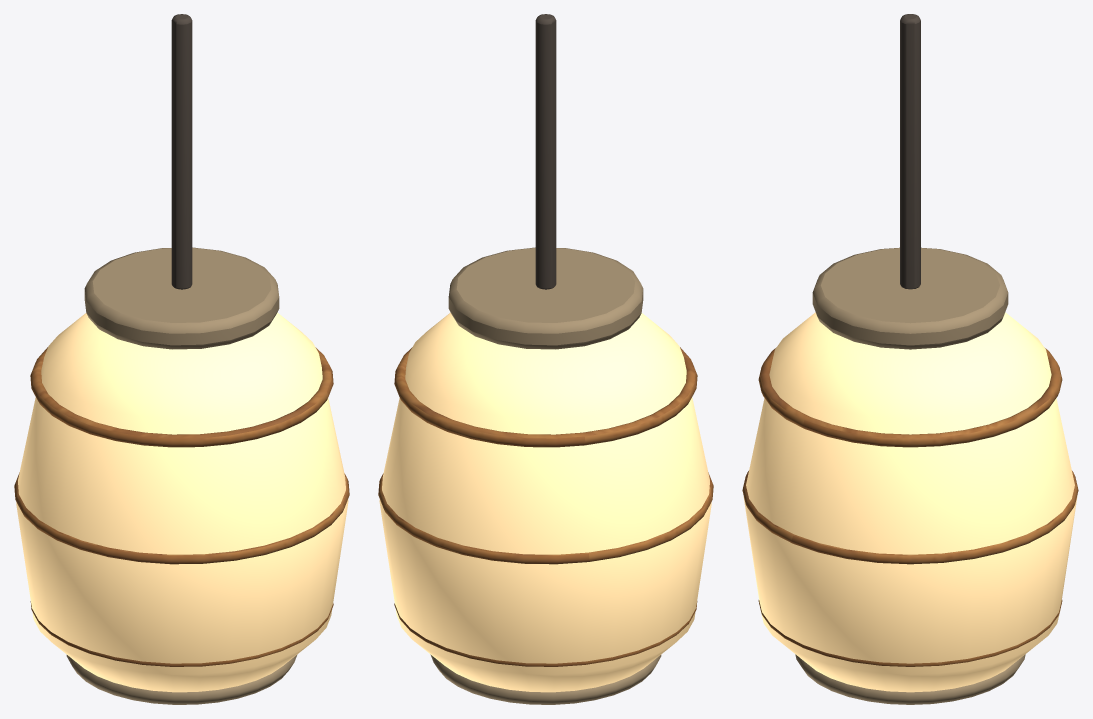
The model's file is WC_CAFE_Lamp_Hanging_A.glb.
The picture shows the model from 3 angles, left to right: view 1: azimuth 30°, elevation 25°; view 2: azimuth 150°, elevation 25°; view 3: azimuth 270°, elevation 25°; orthographic projection.
Parts seen in each view (by area): view 1: WC_CAFE_Lamp_Hanging_A_PolishedRenderMesh; view 2: WC_CAFE_Lamp_Hanging_A_PolishedRenderMesh; view 3: WC_CAFE_Lamp_Hanging_A_PolishedRenderMesh.
Part boxes in pixels (left/top/right/bottom): WC_CAFE_Lamp_Hanging_A_PolishedRenderMesh: left=14, top=14, right=349, bottom=704; WC_CAFE_Lamp_Hanging_A_PolishedRenderMesh: left=378, top=14, right=713, bottom=704; WC_CAFE_Lamp_Hanging_A_PolishedRenderMesh: left=742, top=14, right=1078, bottom=704.
Bounding box in the file's own units: 0.292 × 0.6148 × 0.292.
4 materials, 1 textured.
